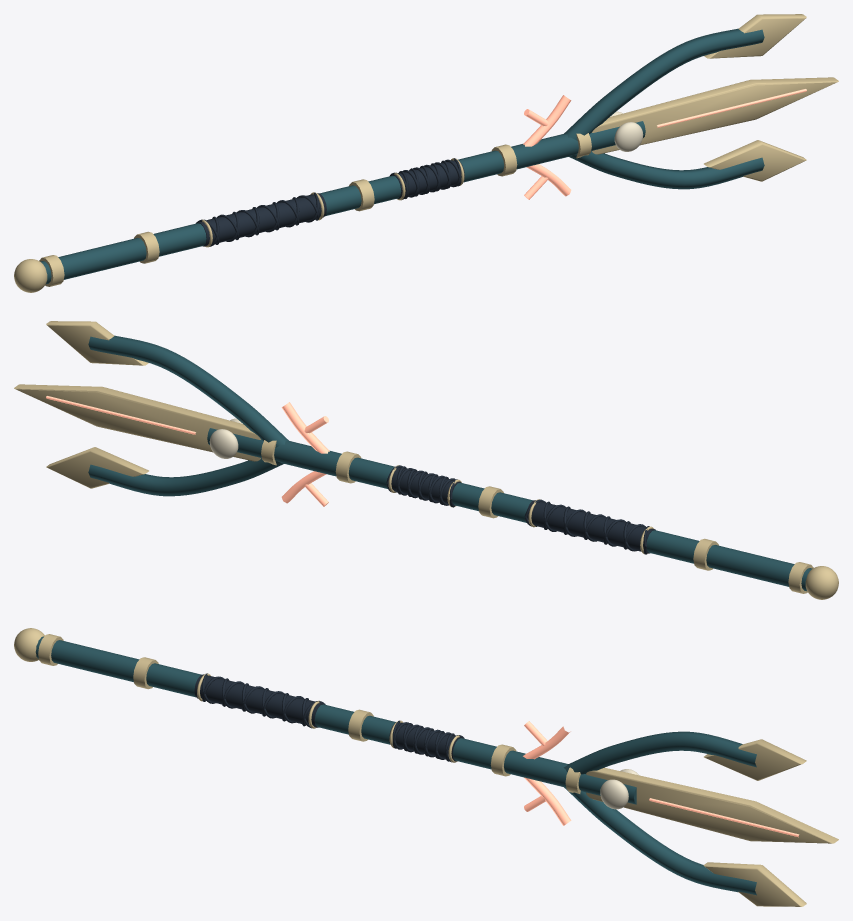
The model's file is reef-regalia.glb.
The picture shows the model from 3 angles, top to bottom: view 1: azimuth 30°, elevation 25°; view 2: azimuth 150°, elevation 25°; view 3: azimuth 330°, elevation 25°; orthographic projection.
Visible parts, largest first — view 1: 07_Meteor_Polearm__body_Sculpt_coat, 07_Meteor_Polearm__body_Sculpt_metal, 07_Meteor_Polearm__body_Sculpt_grip, 07_Meteor_Polearm__body_Sculpt_glow, 07_Meteor_Polearm__body_Sculpt_pearl; view 2: 07_Meteor_Polearm__body_Sculpt_coat, 07_Meteor_Polearm__body_Sculpt_metal, 07_Meteor_Polearm__body_Sculpt_grip, 07_Meteor_Polearm__body_Sculpt_glow, 07_Meteor_Polearm__body_Sculpt_pearl; view 3: 07_Meteor_Polearm__body_Sculpt_coat, 07_Meteor_Polearm__body_Sculpt_metal, 07_Meteor_Polearm__body_Sculpt_grip, 07_Meteor_Polearm__body_Sculpt_glow, 07_Meteor_Polearm__body_Sculpt_pearl.
Part boxes in pixels (<box>): 07_Meteor_Polearm__body_Sculpt_coat: <box>40,28,764,284</box>; 07_Meteor_Polearm__body_Sculpt_metal: <box>14,14,838,292</box>; 07_Meteor_Polearm__body_Sculpt_grip: <box>196,158,464,246</box>; 07_Meteor_Polearm__body_Sculpt_glow: <box>523,89,806,199</box>; 07_Meteor_Polearm__body_Sculpt_pearl: <box>610,111,643,151</box>; 07_Meteor_Polearm__body_Sculpt_coat: <box>88,335,812,591</box>; 07_Meteor_Polearm__body_Sculpt_metal: <box>14,321,838,599</box>; 07_Meteor_Polearm__body_Sculpt_grip: <box>386,465,655,554</box>; 07_Meteor_Polearm__body_Sculpt_glow: <box>46,396,329,506</box>; 07_Meteor_Polearm__body_Sculpt_pearl: <box>209,418,242,458</box>; 07_Meteor_Polearm__body_Sculpt_coat: <box>35,636,756,895</box>; 07_Meteor_Polearm__body_Sculpt_metal: <box>14,628,838,906</box>; 07_Meteor_Polearm__body_Sculpt_grip: <box>194,673,464,762</box>; 07_Meteor_Polearm__body_Sculpt_glow: <box>523,721,799,837</box>; 07_Meteor_Polearm__body_Sculpt_pearl: <box>600,769,638,809</box>.
Size of the model in its own units: 3.62 by 0.6947 by 0.182.
